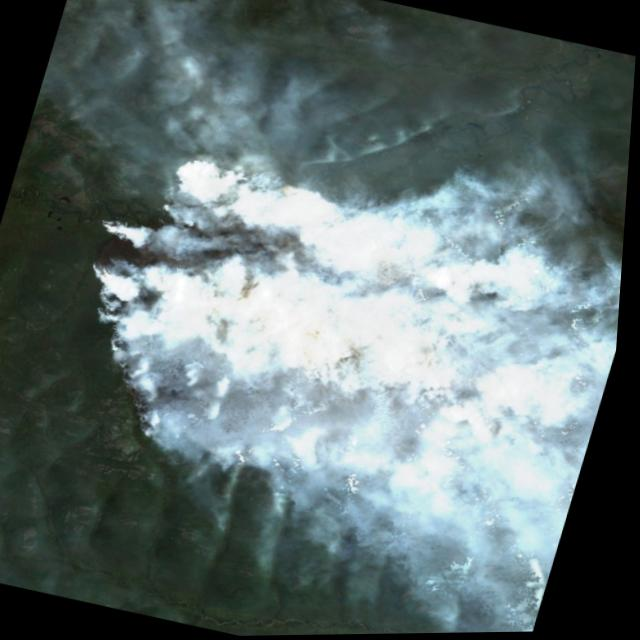fire: (41, 131, 546, 523)
